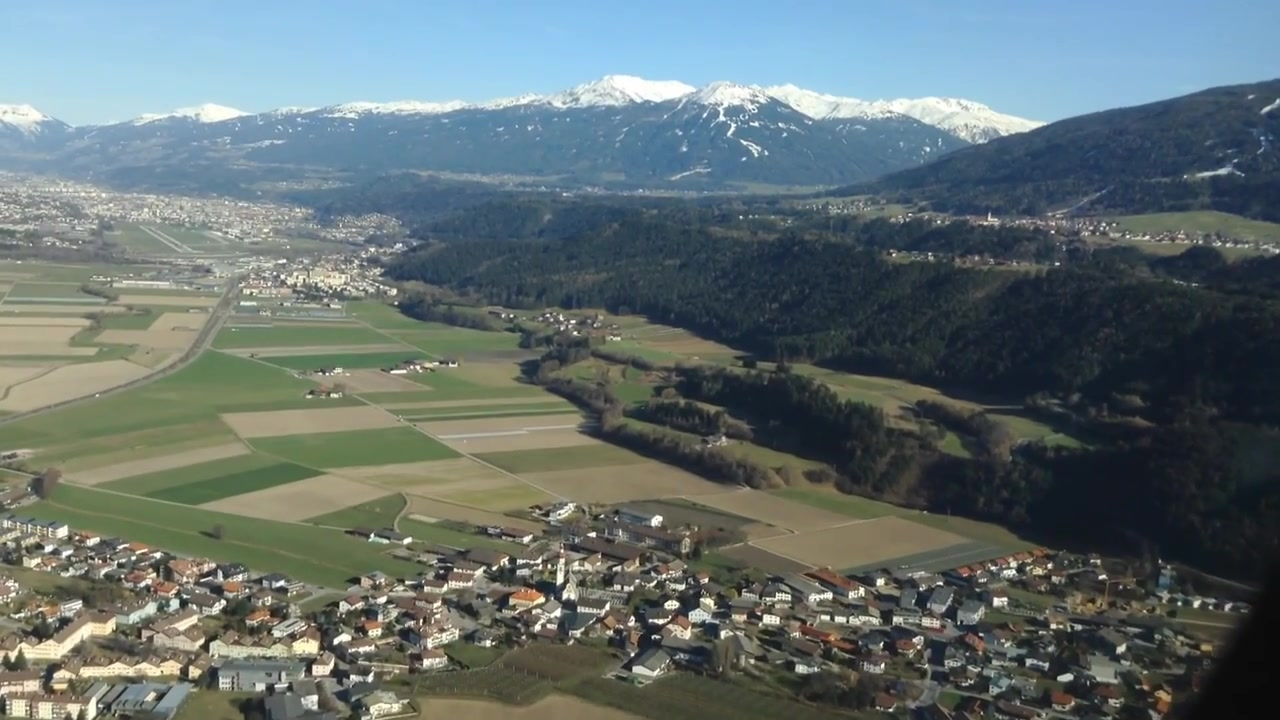runway: (138, 224, 194, 254)
